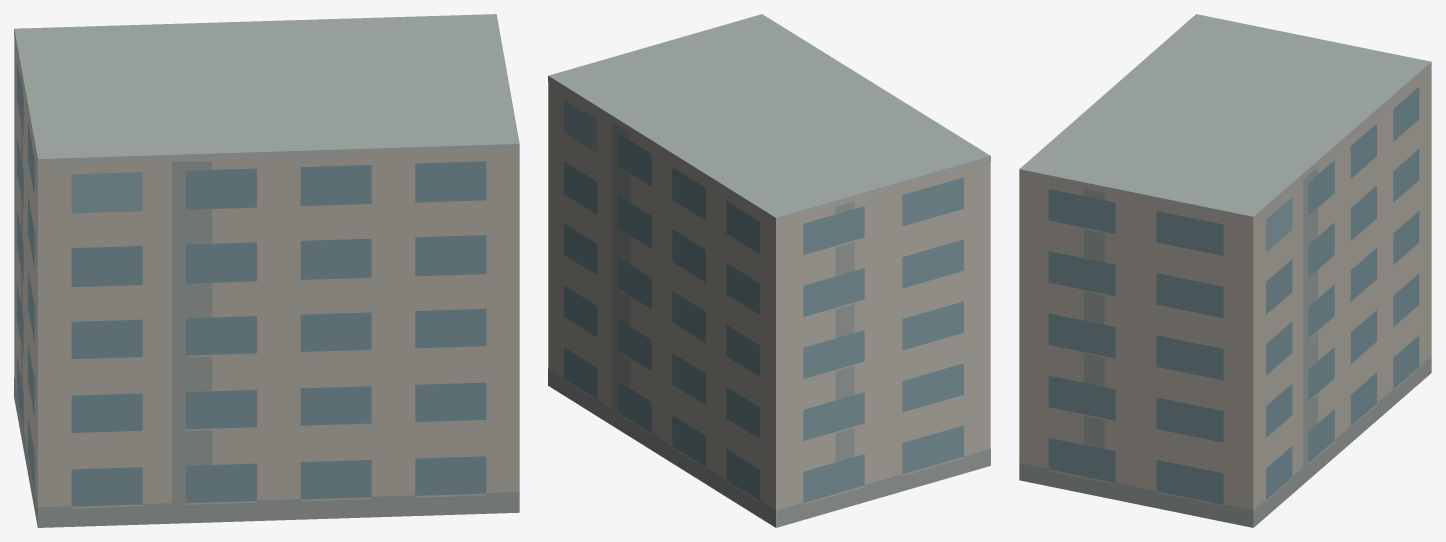
Rendered from survey-upis-32630383.glb.
3 renders of one model, left to right at view 1: azimuth 30°, elevation 25°; view 2: azimuth 150°, elevation 25°; view 3: azimuth 270°, elevation 25°, orthographic. The views are drawn at different scales.
Visible parts, largest first — view 1: survey-upis-32630383.tmp; view 2: survey-upis-32630383.tmp; view 3: survey-upis-32630383.tmp.
Boxes of the visible parts, x1,y1,x2,y2 form: survey-upis-32630383.tmp: (14,14,519,527); survey-upis-32630383.tmp: (548,14,990,527); survey-upis-32630383.tmp: (1019,14,1431,527).
Size of the model in its own units: 16.92 by 12.1 by 14.54.
